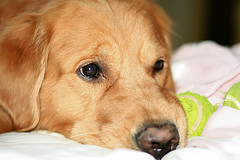tennis ball: (170, 91, 215, 140), (223, 80, 240, 115)
